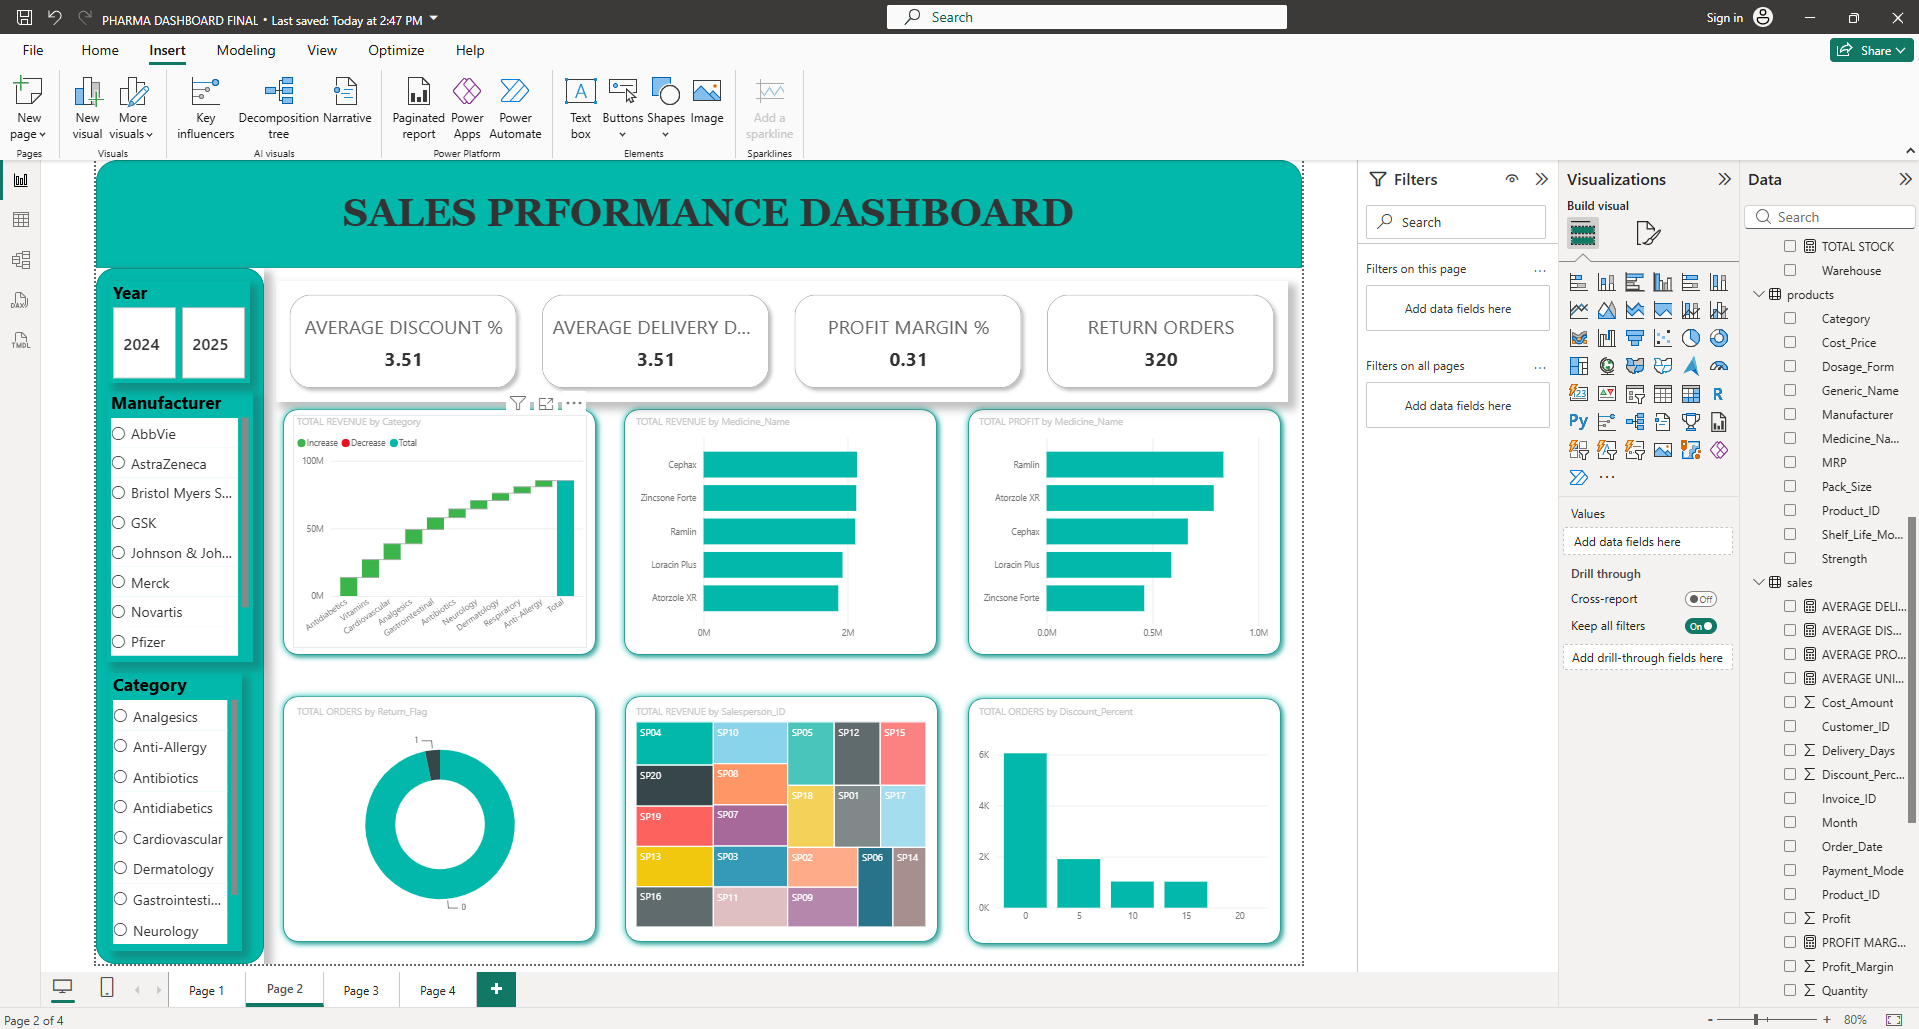

This screenshot's page, from the dashboard's own definition file:
{"tool":"powerbi","page":{"name":"Page 2","canvas":[1500,1000],"ordinal":1},"visuals":[{"type":"shape","box":[0,0,1500,134.3],"z":0},{"type":"textbox","box":[190.3,33.6,1153,83.3],"z":1000},{"type":"shape","box":[0,134.3,209,865.7],"z":2000},{"type":"shape","box":[649.3,658,406.7,323.4],"z":3000},{"type":"shape","box":[223.9,658,406.7,323.4],"z":4000},{"type":"shape","box":[1075.9,301,406.7,323.4],"z":5000},{"type":"shape","box":[648,301,406.7,323.4],"z":6000},{"type":"shape","box":[1075.9,660.4,406.7,323.4],"z":7000},{"type":"clusteredBarChart","fields":{"Category":["products.Medicine_Name"],"Y":["sales.TOTAL REVENUE"]},"box":[666.7,317.2,370.6,289.8],"z":8000},{"type":"clusteredBarChart","fields":{"Category":["products.Medicine_Name"],"Y":["sales.TOTAL PROFIT"]},"box":[1093.3,317.2,369.4,289.8],"z":9000},{"type":"treemap","fields":{"Group":["salesperson.Salesperson_ID"],"Values":["sales.TOTAL REVENUE"]},"box":[666.7,677.9,370.6,281.1],"z":10000},{"type":"columnChart","fields":{"Category":["sales.Discount_Percent"],"Y":["sales.TOTAL ORDERS"]},"box":[1093.3,677.9,369.4,281.1],"z":11000},{"type":"donutChart","fields":{"Y":["sales.TOTAL ORDERS"],"Category":["sales.Return_Flag"]},"box":[245,677.9,365.7,281.1],"z":12000},{"type":"cardVisual","fields":{"Data":["sales.AVERAGE DISCOUNT %","sales.AVERAGE DELIVERY DAYS","sales.PROFIT MARGIN %","sales.RETURN ORDERS"]},"box":[223.9,150.5,1258.7,150.5],"z":13000},{"type":"shape","box":[223.9,301,406.7,323.4],"z":14000},{"type":"waterfallChart","fields":{"Category":["products.Category"],"Y":["sales.TOTAL REVENUE"]},"box":[245,317.2,365.7,289.8],"z":15000},{"type":"listSlicer","fields":{"Values":["products.Manufacturer"]},"box":[13.7,287.3,181.6,337.1],"z":16000},{"type":"advancedSlicerVisual","fields":{"Values":["dates.Year"]},"box":[16.2,150.5,175.4,126.9],"z":17000},{"type":"listSlicer","fields":{"Values":["products.Category"]},"box":[16.2,638.1,165.4,345.8],"z":18000}]}

Visuals, with their boxes on the page's 1500x1000 design canvas (x1, y1, x2, y2). These are canvas units, not pixel positions in the 1919x1029 screenshot, which may show the page scaled, cropped or inside an application window:
shape: <region>0, 0, 1500, 134</region>
textbox: <region>190, 34, 1343, 117</region>
shape: <region>0, 134, 209, 1000</region>
shape: <region>649, 658, 1056, 981</region>
shape: <region>224, 658, 631, 981</region>
shape: <region>1076, 301, 1483, 624</region>
shape: <region>648, 301, 1055, 624</region>
shape: <region>1076, 660, 1483, 984</region>
clusteredBarChart - products.Medicine_Name x sales.TOTAL REVENUE: <region>667, 317, 1037, 607</region>
clusteredBarChart - products.Medicine_Name x sales.TOTAL PROFIT: <region>1093, 317, 1463, 607</region>
treemap - salesperson.Salesperson_ID x sales.TOTAL REVENUE: <region>667, 678, 1037, 959</region>
columnChart - sales.Discount_Percent x sales.TOTAL ORDERS: <region>1093, 678, 1463, 959</region>
donutChart - sales.TOTAL ORDERS x sales.Return_Flag: <region>245, 678, 611, 959</region>
cardVisual - sales.AVERAGE DISCOUNT % x sales.AVERAGE DELIVERY DAYS: <region>224, 150, 1483, 301</region>
shape: <region>224, 301, 631, 624</region>
waterfallChart - products.Category x sales.TOTAL REVENUE: <region>245, 317, 611, 607</region>
listSlicer - products.Manufacturer: <region>14, 287, 195, 624</region>
advancedSlicerVisual - dates.Year: <region>16, 150, 192, 277</region>
listSlicer - products.Category: <region>16, 638, 182, 984</region>
